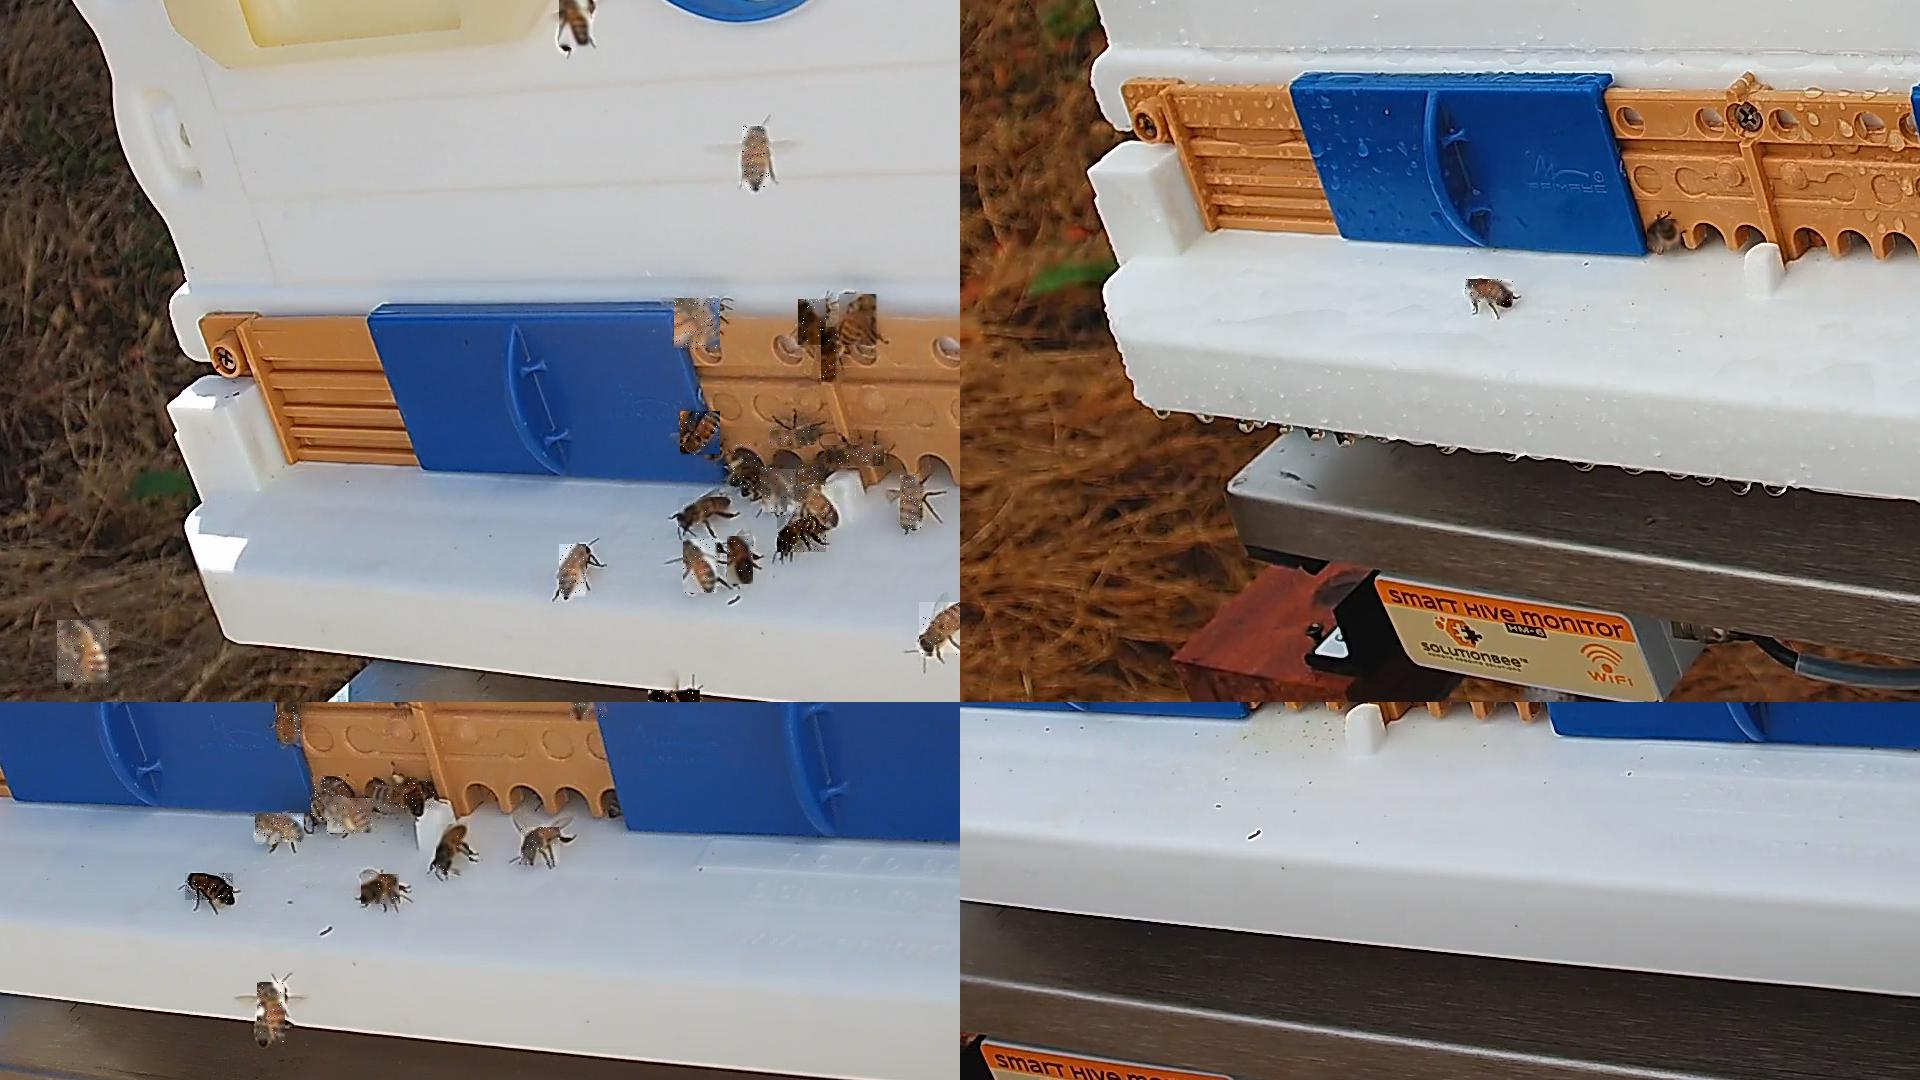bee: (58, 621, 111, 686), (674, 298, 721, 351), (919, 603, 959, 657), (840, 294, 881, 345), (787, 485, 837, 526), (684, 539, 721, 595), (680, 411, 721, 459), (778, 516, 829, 553), (257, 982, 286, 1044), (742, 127, 770, 191), (559, 0, 593, 50), (436, 824, 471, 874), (313, 777, 349, 820), (678, 497, 731, 527), (521, 828, 562, 866), (559, 545, 587, 600), (762, 469, 796, 513), (186, 874, 235, 903), (798, 299, 827, 347), (727, 537, 754, 585), (1465, 280, 1514, 306), (824, 446, 885, 467), (901, 475, 923, 530), (361, 874, 401, 905), (1647, 220, 1683, 251), (277, 702, 302, 744), (822, 327, 840, 384), (742, 468, 779, 495), (406, 782, 435, 814), (799, 464, 823, 500), (770, 431, 820, 446), (570, 702, 607, 720), (647, 690, 702, 702)
pollenbee: (328, 798, 376, 835), (375, 778, 419, 812), (255, 814, 305, 843), (728, 442, 760, 487)
